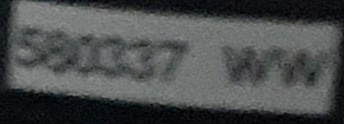0: (72, 33, 99, 73)
3: (127, 37, 155, 82), (97, 37, 125, 78)
5: (11, 24, 43, 70)
7: (157, 39, 188, 86)
8: (41, 28, 73, 73)
w: (218, 44, 279, 86), (278, 46, 331, 89)
